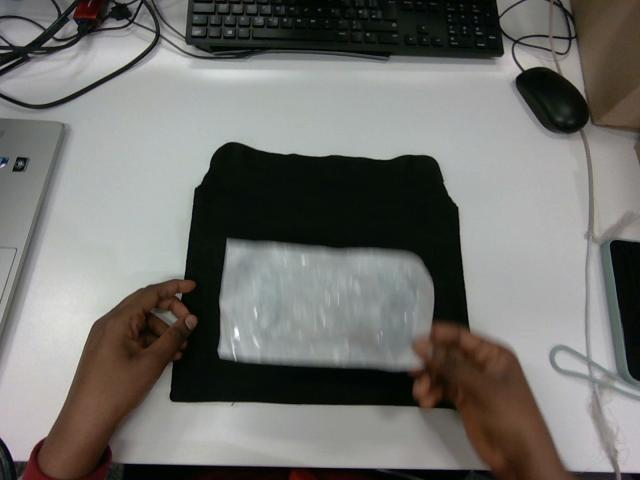gallipot: (218, 239, 433, 370)
